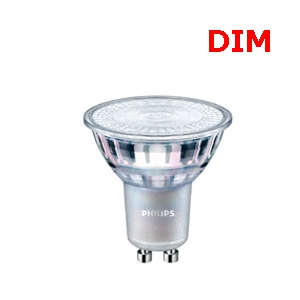Light_bulb: (76, 90, 237, 280)
